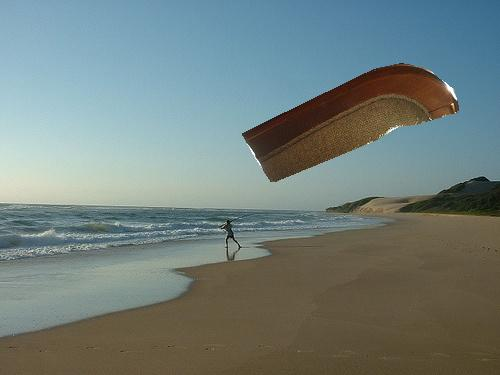tampered: (243, 64, 459, 182)
